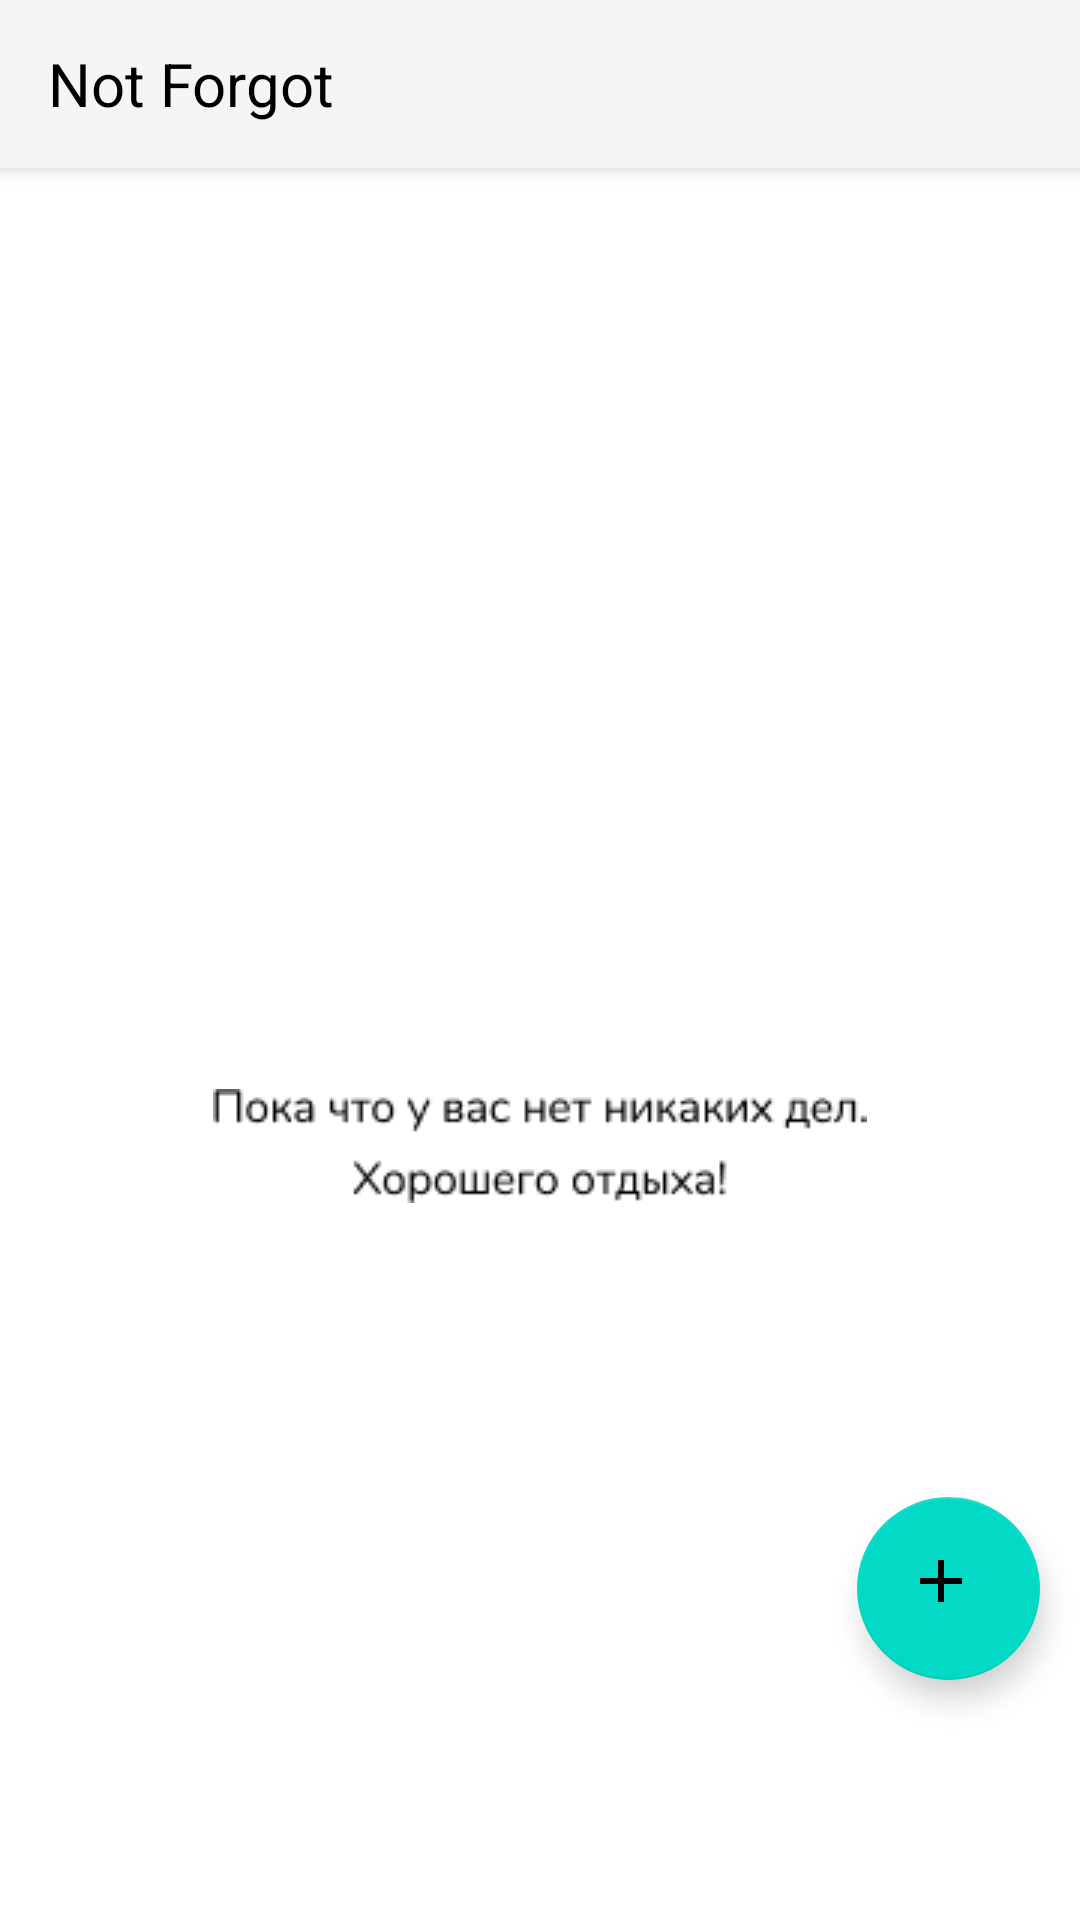

Icon bounding boxes for this 1080x1920 phone screenshot, format {"x1": x1, "y1": y1, "x2": x2, "y2": y2}:
add: {"x1": 857, "y1": 1497, "x2": 1040, "y2": 1680}
